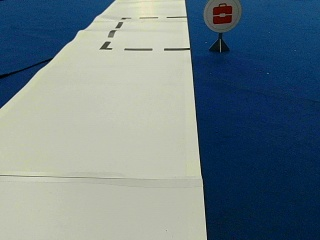company: (203, 0, 241, 31)
